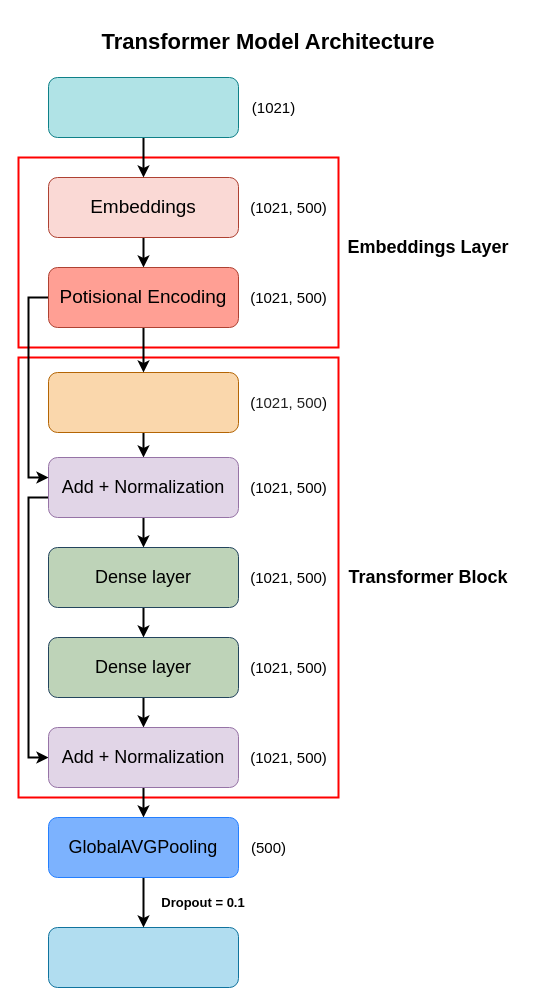
Image size: 535x1005. Some labels were removed from this diagram. The shapes that lost their labels are listed below. From the top down, each one's box as (x1, y1, x2, y2) in pixels, then its label:
(48, 76, 238, 138): Input Layer
(48, 372, 238, 432): Multi Head Attention
(48, 926, 238, 988): Output
